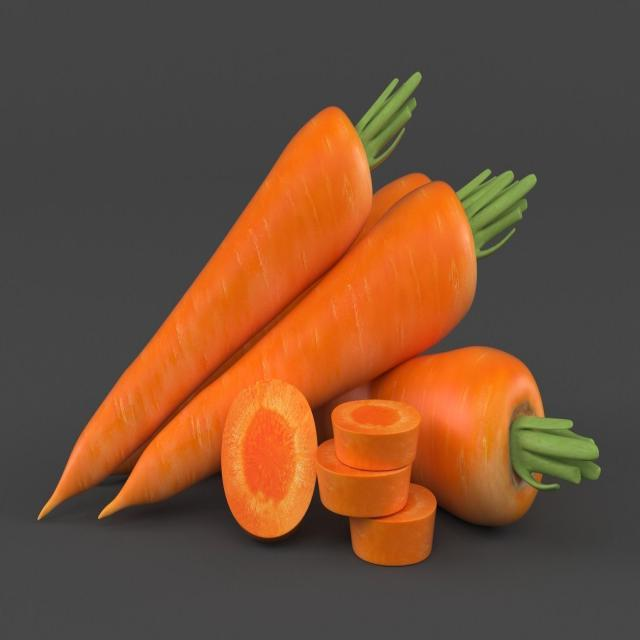carrot: (37, 106, 379, 531), (95, 174, 482, 531), (338, 341, 544, 530)
